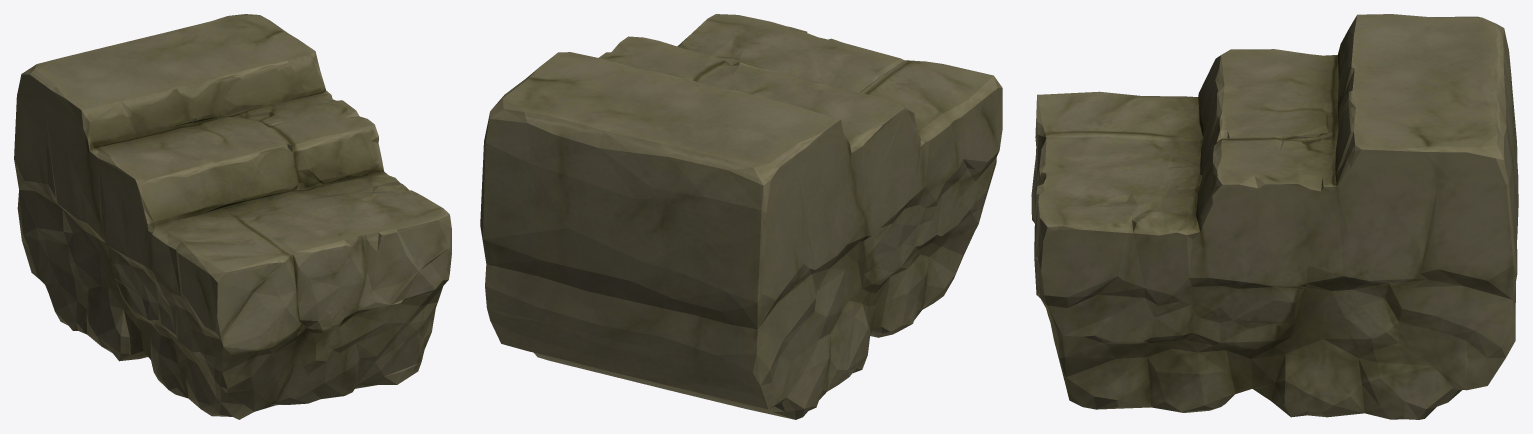
Rendered from plataforma6.glb.
3 views of the same model, side by side, from view 1: azimuth 30°, elevation 25°; view 2: azimuth 150°, elevation 25°; view 3: azimuth 270°, elevation 25° (orthographic). The views are drawn at different scales.
Visible parts, largest first — view 1: tripo_node_08fefc2b-2ebb-47d3-9246-9842298d9b65; view 2: tripo_node_08fefc2b-2ebb-47d3-9246-9842298d9b65; view 3: tripo_node_08fefc2b-2ebb-47d3-9246-9842298d9b65.
Boxes of the visible parts, x1=… form: tripo_node_08fefc2b-2ebb-47d3-9246-9842298d9b65: x1=14, y1=14, x2=451, y2=419; tripo_node_08fefc2b-2ebb-47d3-9246-9842298d9b65: x1=480, y1=14, x2=1002, y2=419; tripo_node_08fefc2b-2ebb-47d3-9246-9842298d9b65: x1=1031, y1=14, x2=1518, y2=419.
Bounding box in the file's own units: 0.6674 × 0.6281 × 0.9996.
Materials: 1 (1 with a texture image).
